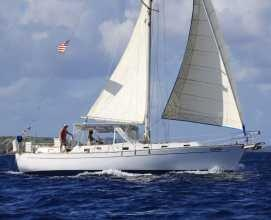fanchuan: (11, 1, 260, 178)
